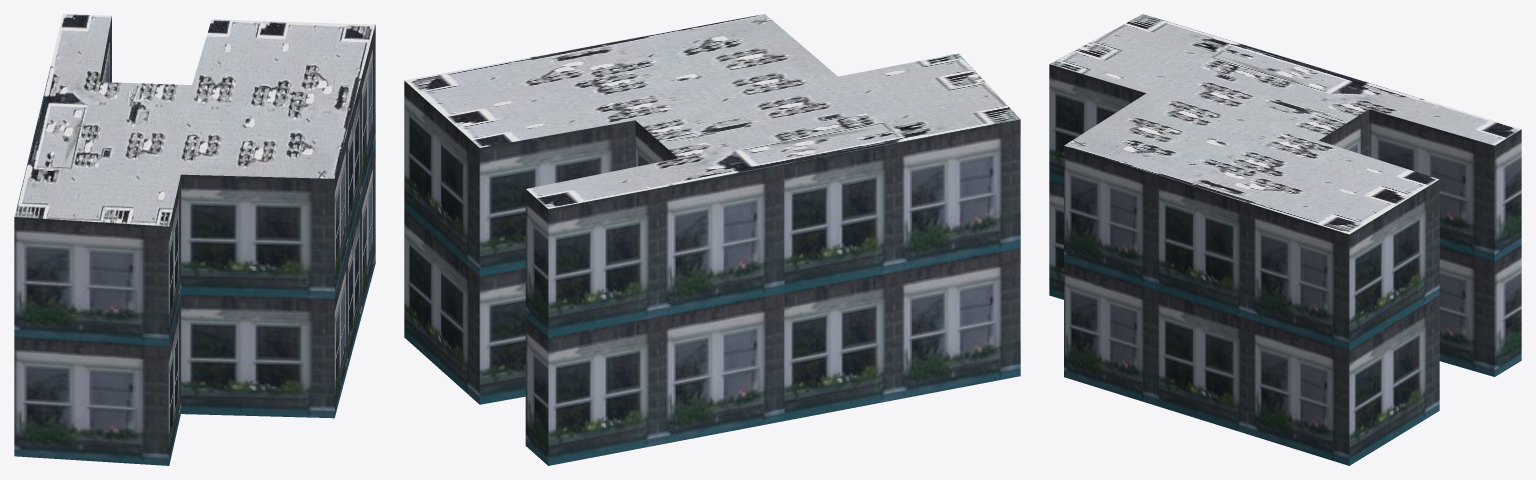
The model's file is ResTex__1236.fbx.
3 views of the same model, side by side, from view 1: azimuth 30°, elevation 25°; view 2: azimuth 150°, elevation 25°; view 3: azimuth 270°, elevation 25° (orthographic). The views are drawn at different scales.
Visible parts, largest first — view 1: CityEngineMaterial_11_m, CityEngineMaterial_4_m; view 2: CityEngineMaterial_11_m, CityEngineMaterial_4_m; view 3: CityEngineMaterial_11_m, CityEngineMaterial_4_m.
Boxes of the visible parts, x1,y1,x2,y2 form: CityEngineMaterial_11_m: [14, 16, 375, 465]; CityEngineMaterial_4_m: [14, 14, 375, 226]; CityEngineMaterial_11_m: [404, 81, 1020, 465]; CityEngineMaterial_4_m: [405, 14, 1019, 208]; CityEngineMaterial_11_m: [1049, 64, 1521, 465]; CityEngineMaterial_4_m: [1049, 14, 1521, 234].
Bounding box in the file's own units: 12.27 × 6 × 11.1.
2 materials, 2 textured.
